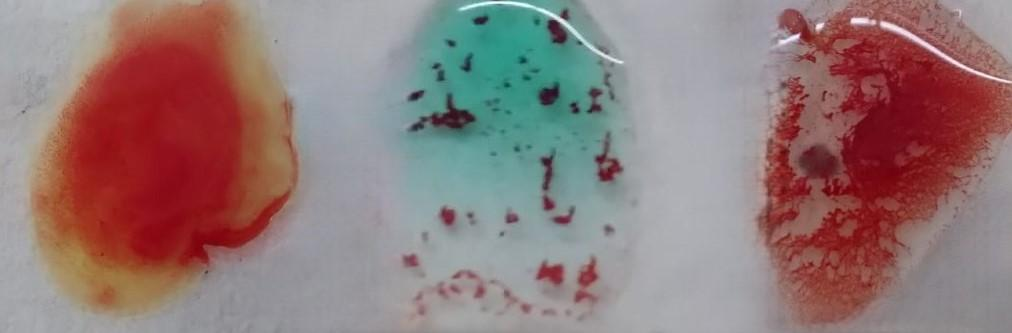A: (385, 5, 631, 332)
D: (761, 3, 1012, 329)
